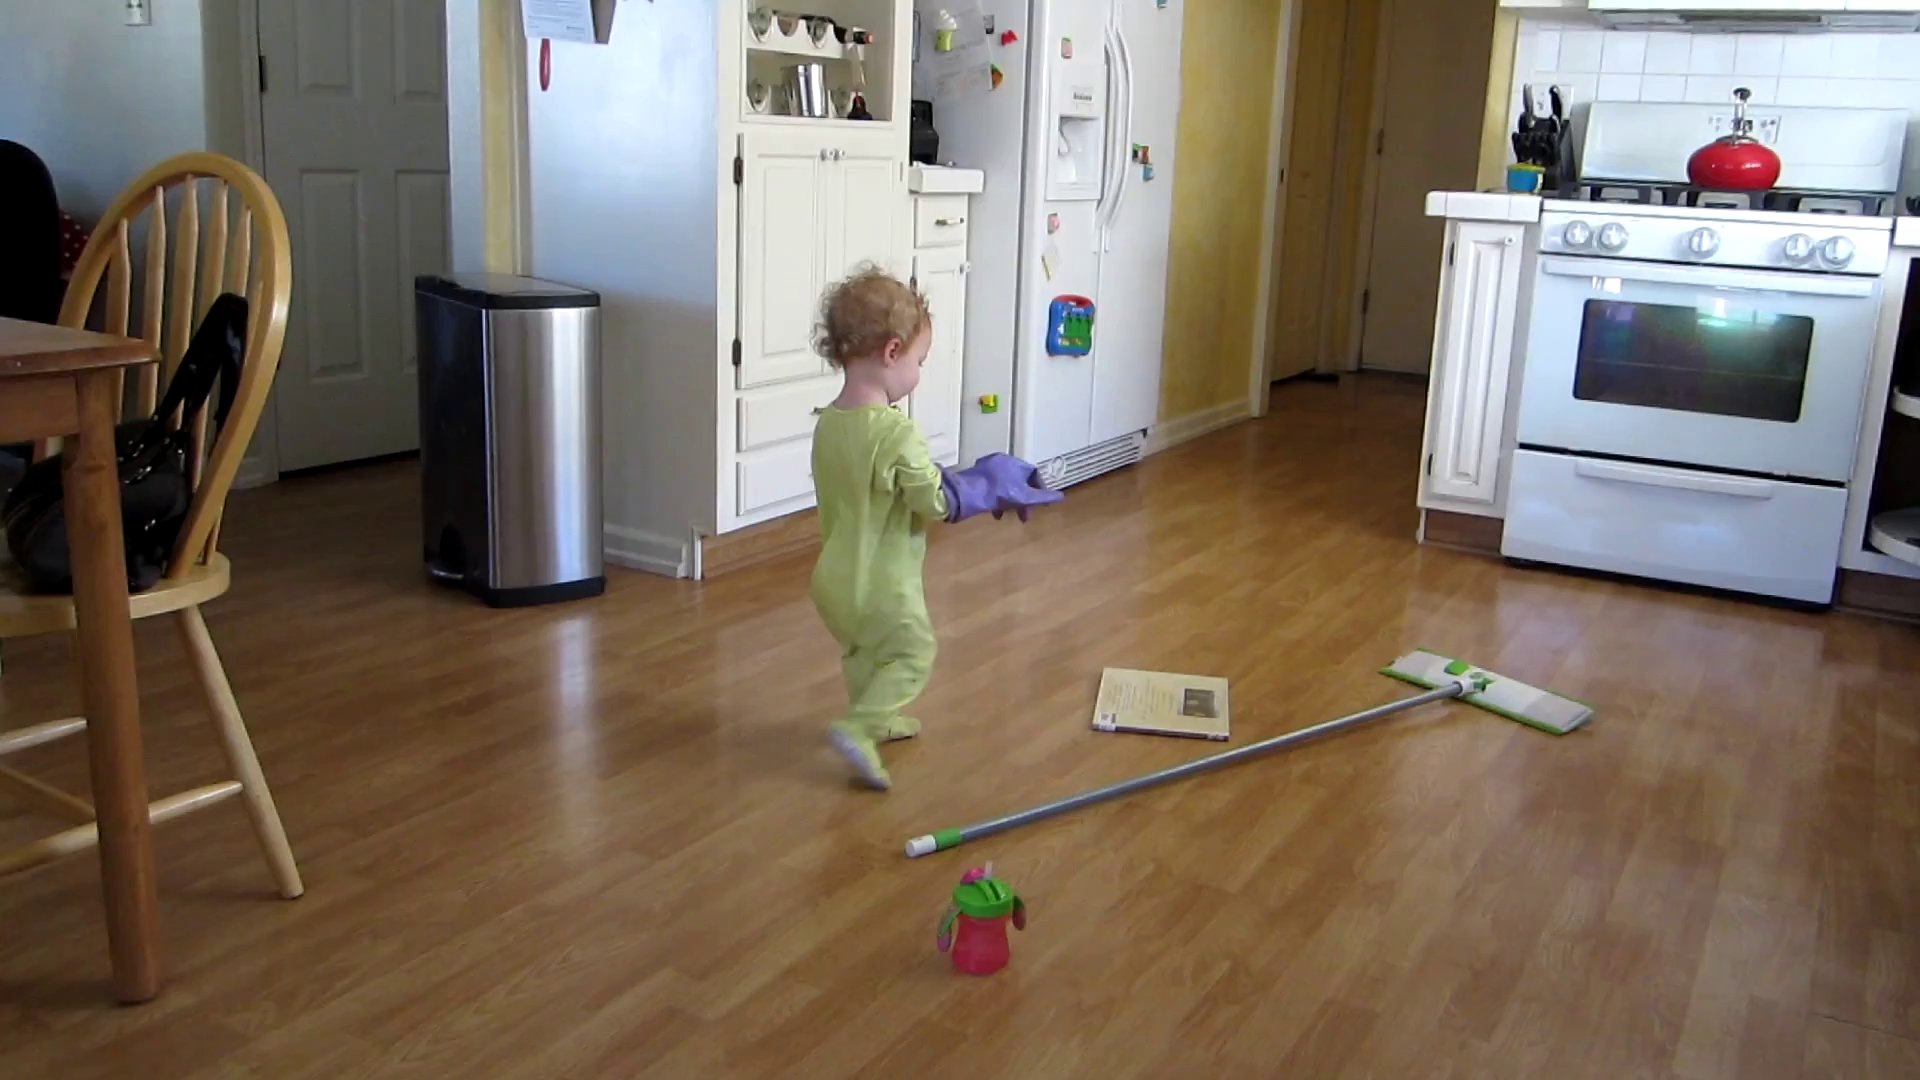person: (809, 257, 1063, 791)
